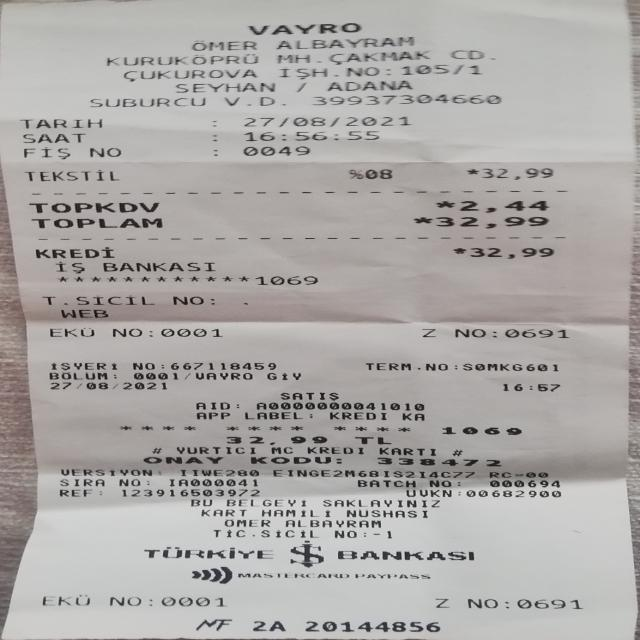text: (345, 544, 468, 567), (270, 65, 485, 78), (145, 542, 269, 564), (365, 361, 557, 372), (311, 94, 500, 105), (273, 36, 417, 50), (273, 468, 473, 478), (306, 618, 439, 632), (104, 54, 258, 66), (242, 116, 409, 127), (256, 401, 423, 412), (101, 260, 214, 273), (435, 216, 547, 229), (326, 50, 429, 64), (89, 96, 205, 108), (42, 294, 156, 306), (377, 456, 499, 467), (29, 217, 162, 227), (27, 202, 158, 212), (120, 70, 258, 79), (120, 488, 257, 497), (242, 131, 378, 140), (226, 434, 326, 446), (459, 200, 547, 213), (173, 82, 275, 93), (469, 246, 552, 259), (321, 499, 438, 508), (246, 24, 362, 33), (49, 381, 165, 390), (325, 80, 411, 92), (482, 166, 552, 180), (22, 171, 118, 181), (285, 519, 380, 529), (170, 362, 274, 371), (442, 424, 520, 436), (59, 466, 151, 476), (18, 118, 101, 129), (250, 455, 329, 466), (161, 594, 223, 608), (466, 489, 562, 498), (143, 454, 221, 465), (346, 509, 426, 519), (169, 478, 257, 487), (33, 247, 112, 257), (180, 467, 258, 477), (226, 498, 304, 508), (176, 445, 253, 455), (190, 40, 260, 51), (518, 597, 582, 609), (223, 95, 285, 107), (21, 132, 87, 143), (241, 145, 310, 155), (160, 327, 222, 338), (261, 508, 329, 518), (234, 572, 347, 578), (504, 328, 569, 338), (252, 529, 317, 539), (258, 275, 321, 285), (489, 479, 559, 488), (43, 593, 87, 607), (245, 411, 300, 422), (379, 446, 434, 457), (23, 146, 69, 159), (330, 411, 384, 422), (280, 391, 338, 401), (357, 478, 415, 488), (502, 382, 558, 392), (307, 446, 362, 456), (48, 371, 107, 380), (45, 362, 119, 369), (194, 372, 250, 381), (249, 620, 289, 632), (60, 308, 106, 318), (275, 51, 305, 66), (49, 327, 94, 337), (133, 371, 183, 380), (170, 294, 207, 306), (224, 518, 268, 528), (355, 573, 428, 579), (88, 145, 119, 159), (354, 434, 390, 446), (200, 508, 243, 518), (110, 594, 139, 608), (59, 478, 102, 487), (447, 49, 482, 60), (364, 166, 391, 180), (55, 261, 85, 273), (195, 400, 230, 410), (213, 528, 243, 539), (106, 328, 142, 337), (196, 411, 228, 421), (455, 327, 484, 338), (468, 597, 497, 608), (267, 372, 299, 381), (59, 488, 91, 497), (435, 200, 454, 213), (334, 529, 356, 540), (414, 216, 432, 229), (487, 469, 510, 479), (401, 412, 423, 422), (428, 478, 450, 488), (117, 478, 140, 487), (271, 446, 291, 456), (348, 166, 362, 180), (132, 362, 153, 371), (190, 498, 210, 507), (373, 530, 391, 540), (466, 166, 478, 180), (484, 48, 495, 62), (310, 51, 320, 65), (449, 248, 468, 255), (294, 81, 306, 92), (210, 294, 221, 306), (436, 597, 448, 608), (422, 328, 434, 338), (451, 446, 461, 456), (500, 598, 509, 608), (212, 145, 218, 157), (152, 444, 159, 454), (456, 488, 463, 498), (335, 455, 340, 466), (212, 116, 216, 128), (212, 131, 216, 142), (148, 327, 152, 337), (492, 328, 496, 338), (309, 411, 311, 422), (235, 400, 237, 410), (157, 467, 159, 477), (161, 362, 163, 371), (113, 371, 115, 380), (457, 479, 459, 488), (149, 594, 150, 608), (147, 478, 148, 487), (99, 488, 99, 497), (364, 529, 364, 539)
